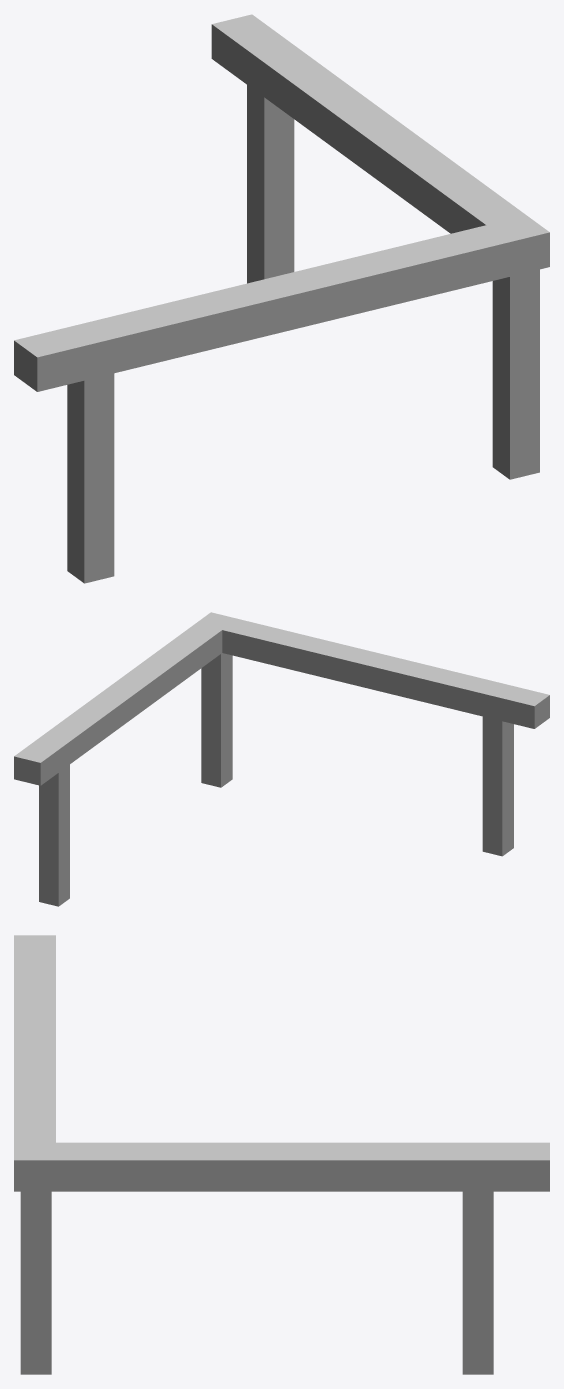
File: rail_003.fbx
3 views of the same model, one above another, from view 1: azimuth 30°, elevation 25°; view 2: azimuth 150°, elevation 25°; view 3: azimuth 270°, elevation 25° (orthographic). The views are drawn at different scales.
Parts seen in each view (by area): view 1: rail_003; view 2: rail_003; view 3: rail_003.
Boxes of the visible parts, <box> form: rail_003: <box>14,14,549,583</box>; rail_003: <box>14,612,549,906</box>; rail_003: <box>14,935,549,1374</box>.
Size of the model in its own units: 145 by 65.03 by 146.
